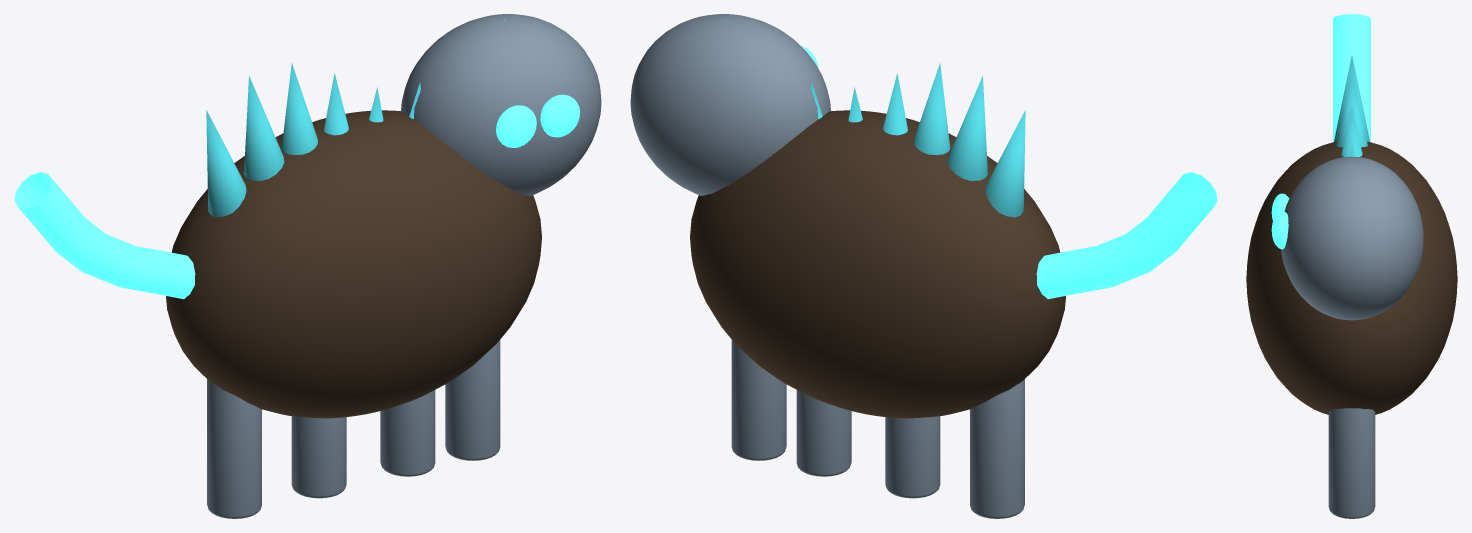
Rendered from plant_v5.glb.
3 views of the same model, side by side, from view 1: azimuth 30°, elevation 25°; view 2: azimuth 150°, elevation 25°; view 3: azimuth 270°, elevation 25° (orthographic). The views are drawn at different scales.
Parts seen in each view (by area): view 1: THORN_BODY_SECONDARY, THORN_HEAD_PRIMARY, BRAMBLE_TAIL_EMISSIVE, THORN_LEG_PRIMARY, THORN_LEG_PRIMARY.003, THORN_LEG_PRIMARY.001, THORN_LEG_PRIMARY.002, BACK_THORN_ACCENT, BACK_THORN_ACCENT.001, BACK_THORN_ACCENT.002, EYE_EMISSIVE, EYE_EMISSIVE.001 (+1 smaller); view 2: THORN_BODY_SECONDARY, THORN_HEAD_PRIMARY, BRAMBLE_TAIL_EMISSIVE, THORN_LEG_PRIMARY, THORN_LEG_PRIMARY.003, THORN_LEG_PRIMARY.001, THORN_LEG_PRIMARY.002, BACK_THORN_ACCENT, BACK_THORN_ACCENT.001, BACK_THORN_ACCENT.002, BACK_THORN_ACCENT.003; view 3: THORN_BODY_SECONDARY, THORN_HEAD_PRIMARY, THORN_LEG_PRIMARY.003, BRAMBLE_TAIL_EMISSIVE, BACK_THORN_ACCENT.002, BACK_THORN_ACCENT.001, BACK_THORN_ACCENT.003, EYE_EMISSIVE.001, EYE_EMISSIVE.
Boxes of the visible parts, left/top/right/bottom form: THORN_BODY_SECONDARY: left=166, top=110, right=541, bottom=418; THORN_HEAD_PRIMARY: left=401, top=14, right=601, bottom=195; BRAMBLE_TAIL_EMISSIVE: left=14, top=172, right=195, bottom=299; THORN_LEG_PRIMARY: left=207, top=379, right=261, bottom=518; THORN_LEG_PRIMARY.003: left=445, top=340, right=500, bottom=460; THORN_LEG_PRIMARY.001: left=291, top=416, right=346, bottom=498; THORN_LEG_PRIMARY.002: left=380, top=390, right=435, bottom=476; BACK_THORN_ACCENT: left=206, top=110, right=246, bottom=217; BACK_THORN_ACCENT.001: left=244, top=75, right=284, bottom=180; BACK_THORN_ACCENT.002: left=281, top=62, right=317, bottom=155; EYE_EMISSIVE: left=496, top=105, right=536, bottom=147; EYE_EMISSIVE.001: left=540, top=94, right=580, bottom=137; THORN_BODY_SECONDARY: left=690, top=110, right=1065, bottom=418; THORN_HEAD_PRIMARY: left=630, top=14, right=830, bottom=195; BRAMBLE_TAIL_EMISSIVE: left=1036, top=172, right=1217, bottom=299; THORN_LEG_PRIMARY: left=970, top=379, right=1024, bottom=518; THORN_LEG_PRIMARY.003: left=731, top=340, right=786, bottom=460; THORN_LEG_PRIMARY.001: left=885, top=416, right=940, bottom=498; THORN_LEG_PRIMARY.002: left=796, top=390, right=851, bottom=476; BACK_THORN_ACCENT: left=985, top=110, right=1025, bottom=217; BACK_THORN_ACCENT.001: left=947, top=75, right=987, bottom=180; BACK_THORN_ACCENT.002: left=914, top=62, right=950, bottom=155; BACK_THORN_ACCENT.003: left=883, top=73, right=907, bottom=135; THORN_BODY_SECONDARY: left=1246, top=141, right=1457, bottom=414; THORN_HEAD_PRIMARY: left=1281, top=156, right=1423, bottom=320; THORN_LEG_PRIMARY.003: left=1328, top=408, right=1375, bottom=518; BRAMBLE_TAIL_EMISSIVE: left=1333, top=14, right=1370, bottom=142; BACK_THORN_ACCENT.002: left=1336, top=71, right=1367, bottom=147; BACK_THORN_ACCENT.001: left=1334, top=55, right=1369, bottom=141; BACK_THORN_ACCENT.003: left=1341, top=106, right=1362, bottom=156; EYE_EMISSIVE.001: left=1271, top=211, right=1288, bottom=249; EYE_EMISSIVE: left=1271, top=193, right=1289, bottom=220.
Size of the model in its own units: 2.65 by 1.91 by 1.
